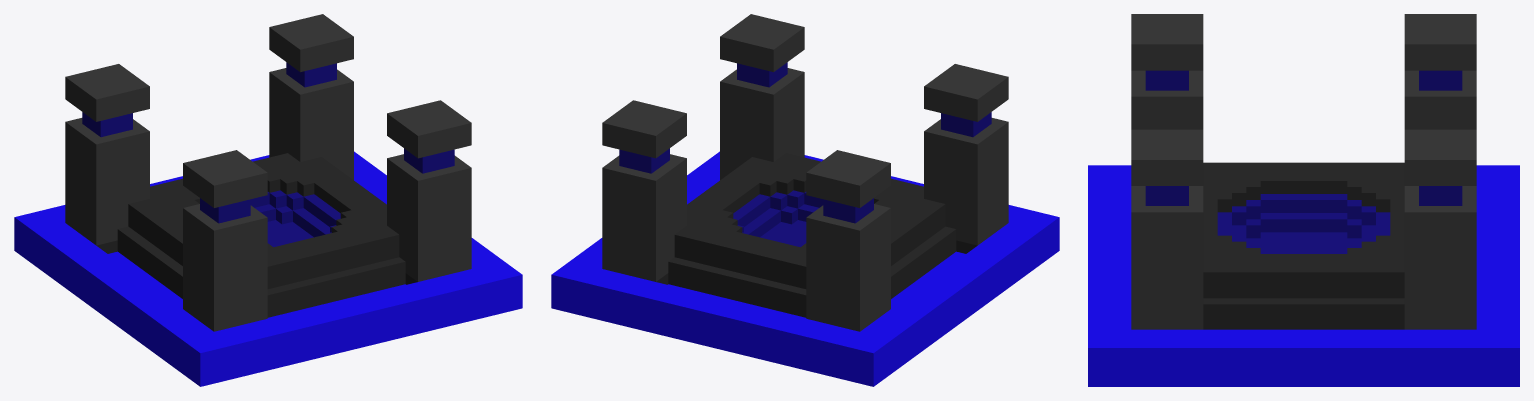
File: ItemAcceptorBlueOn.obj
3 renders of one model, left to right at view 1: azimuth 30°, elevation 25°; view 2: azimuth 150°, elevation 25°; view 3: azimuth 270°, elevation 25°, orthographic. The views are drawn at different scales.
Size of the model in its own units: 3 by 1.6 by 3.
Materials: 1 (1 with a texture image).
